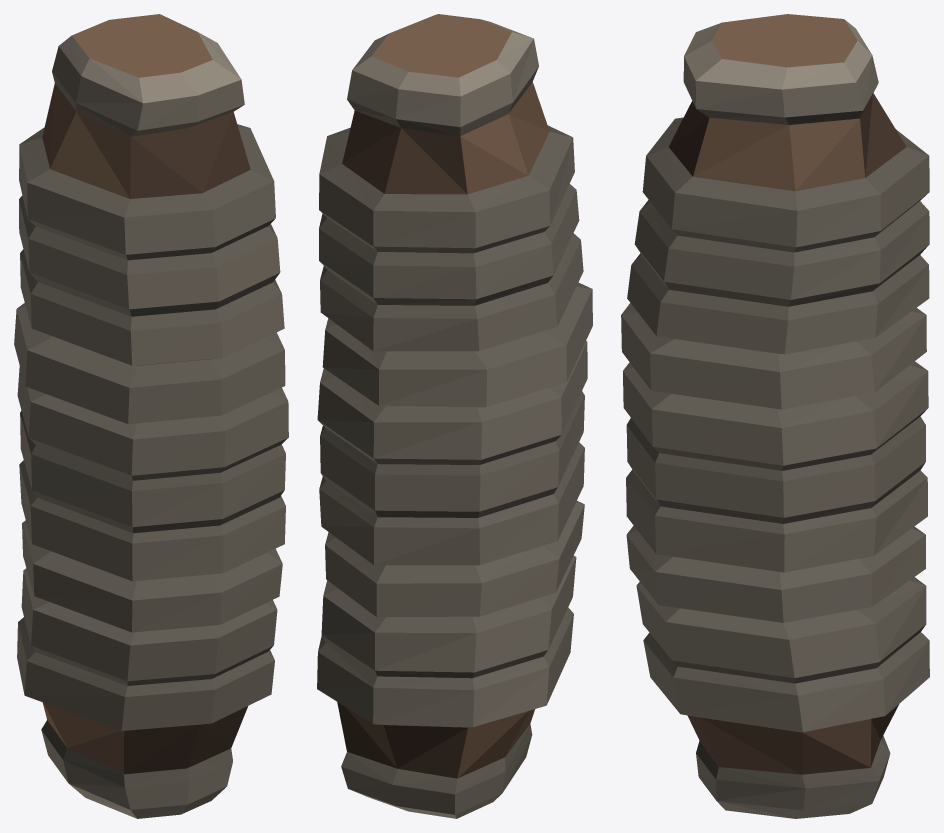
Rendered from smallBowSimpleHandle.glb.
3 views of the same model, side by side, from view 1: azimuth 30°, elevation 25°; view 2: azimuth 150°, elevation 25°; view 3: azimuth 270°, elevation 25° (orthographic).
Parts seen in each view (by area): view 1: smallBowSimpleHandle; view 2: smallBowSimpleHandle; view 3: smallBowSimpleHandle.
Part boxes in pixels (left/top/right/bottom): smallBowSimpleHandle: left=14, top=14, right=288, bottom=818; smallBowSimpleHandle: left=317, top=14, right=592, bottom=818; smallBowSimpleHandle: left=621, top=14, right=929, bottom=818.
Bounding box in the file's own units: 0.0469 × 0.1395 × 0.052.
